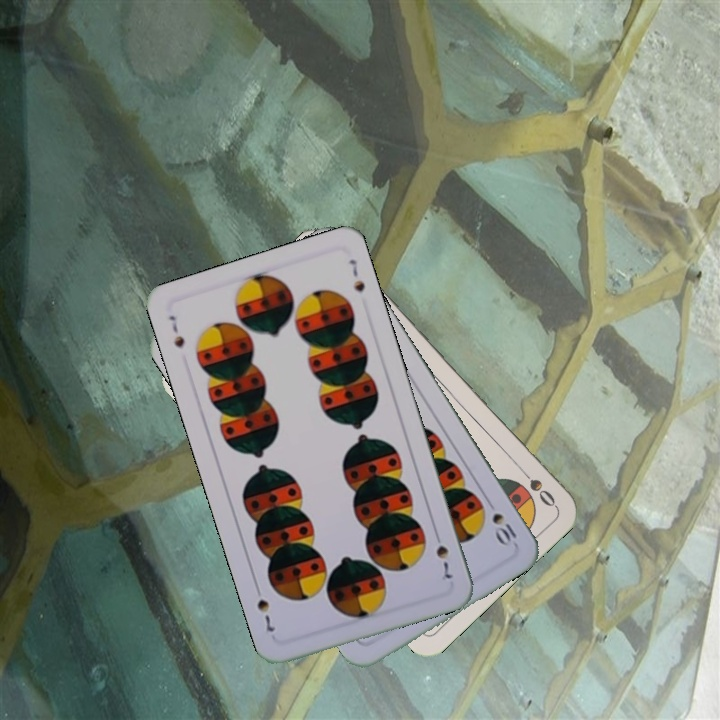S10: (488, 508, 520, 549)
S7: (430, 527, 455, 581), (164, 311, 187, 352)
SO: (514, 461, 559, 510)
